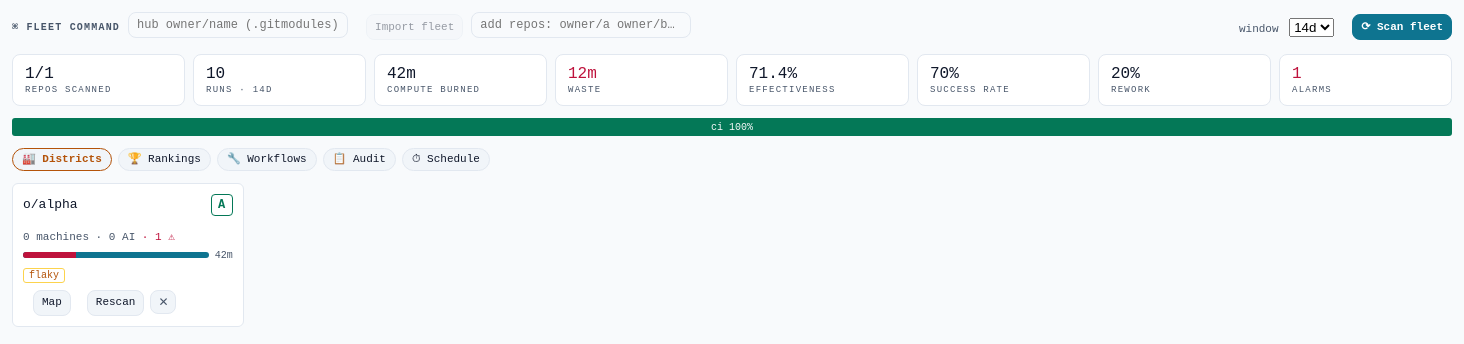
Scenario: FleetOpsPanel › lists per-workflow rows on the Workflows board with a Manage action
Click the button "🔧 Workflows": (267, 159) x1=217 y1=148 x2=317 y2=170
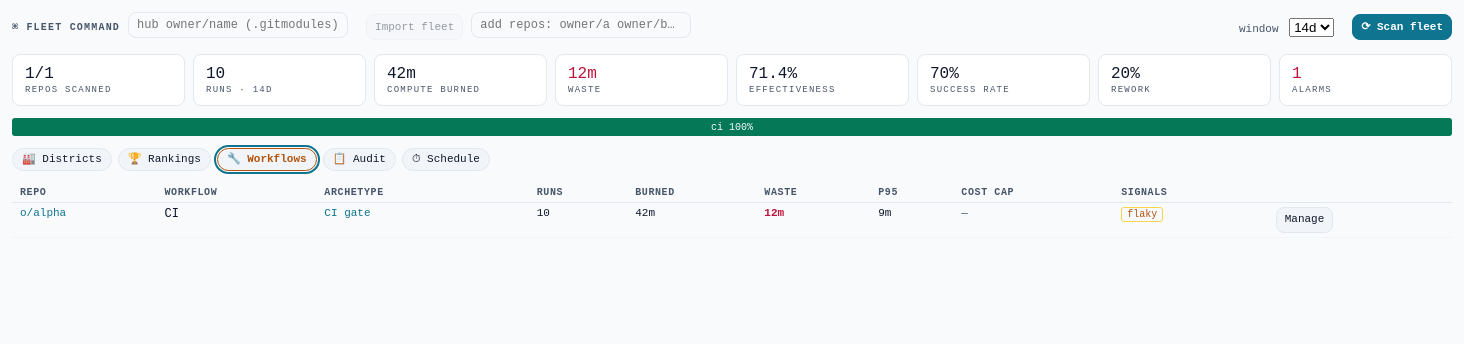
Expected: the text "CI gate" is shown, x1=316 y1=202 x2=492 y2=237
Expected: the button "Manage" is shown, x1=1276 y1=206 x2=1333 y2=232
